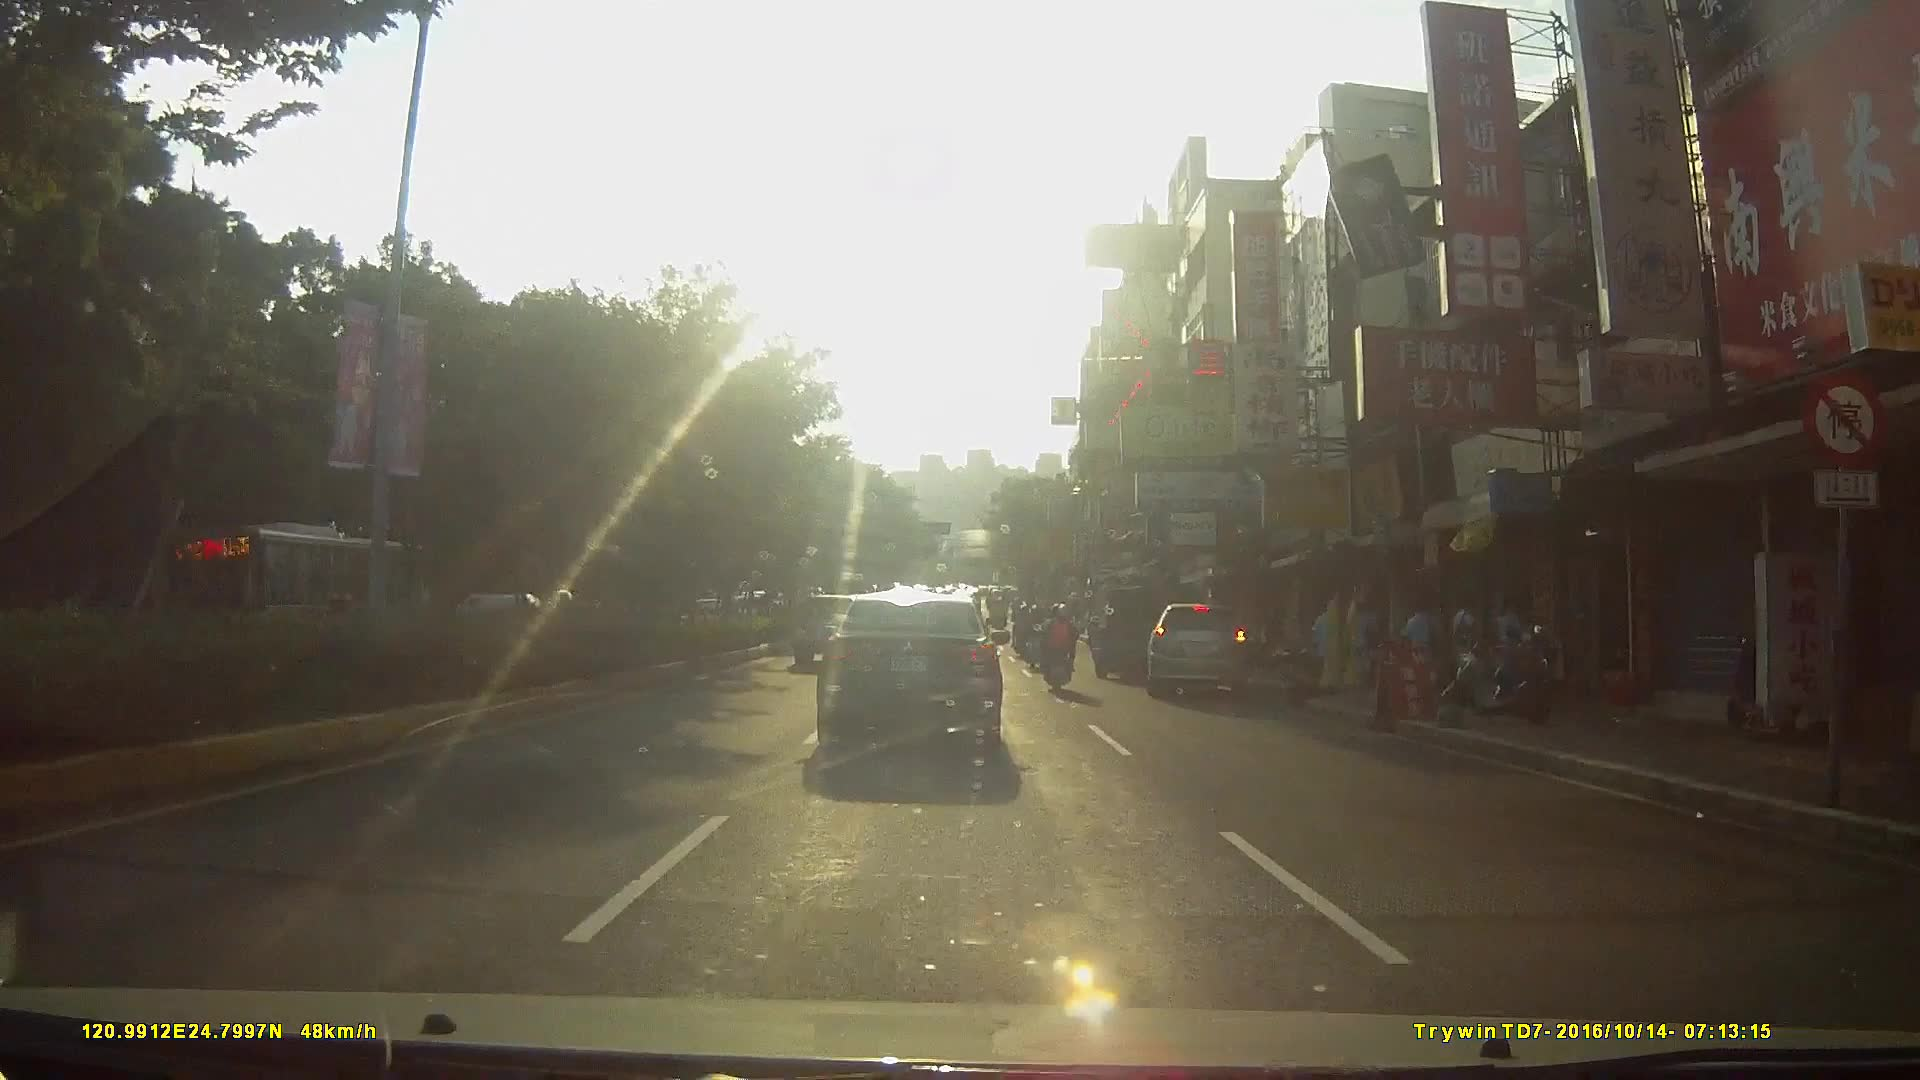pedestrian: (1401, 601, 1438, 687), (1494, 592, 1524, 683), (1452, 594, 1474, 679)
rider: (1038, 596, 1082, 694), (1022, 601, 1047, 670)
vehicle: (170, 517, 429, 668), (817, 589, 1030, 768), (1153, 599, 1267, 705), (1090, 581, 1186, 687)
